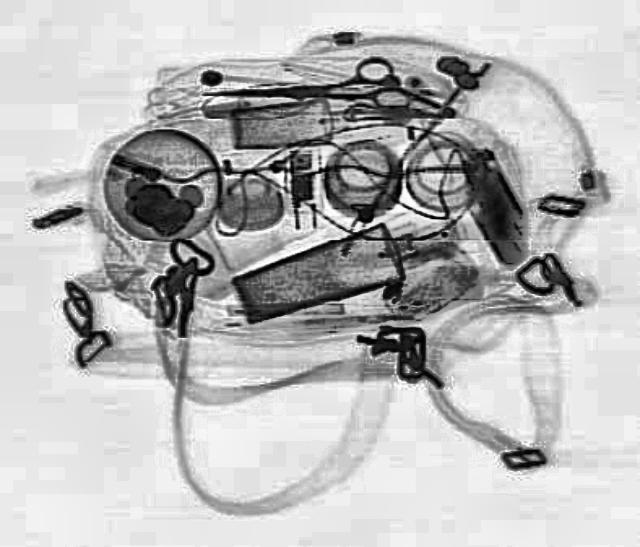Scissors: (200, 54, 410, 118)
